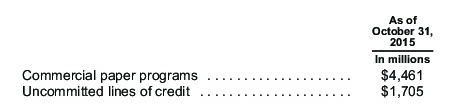table: (0, 0, 456, 112)
